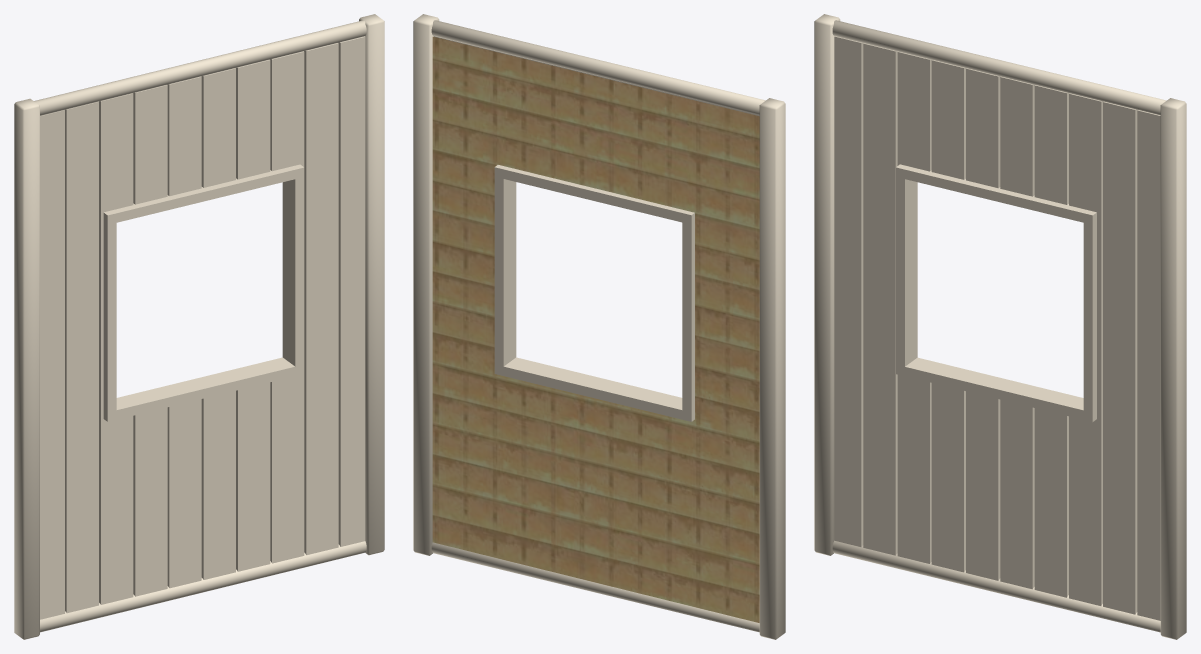
The model's file is SM_window_module.glb.
3 views of the same model, side by side, from view 1: azimuth 30°, elevation 25°; view 2: azimuth 150°, elevation 25°; view 3: azimuth 330°, elevation 25° (orthographic).
Parts seen in each view (by area): view 1: SM_window_module; view 2: SM_window_module; view 3: SM_window_module.
Part boxes in pixels (left/top/right/bottom): SM_window_module: left=14, top=14, right=384, bottom=639; SM_window_module: left=413, top=14, right=785, bottom=639; SM_window_module: left=814, top=14, right=1186, bottom=639.
Bounding box in the file's own units: 2 × 2.8 × 0.1202.
Materials: 2 (1 with a texture image).
